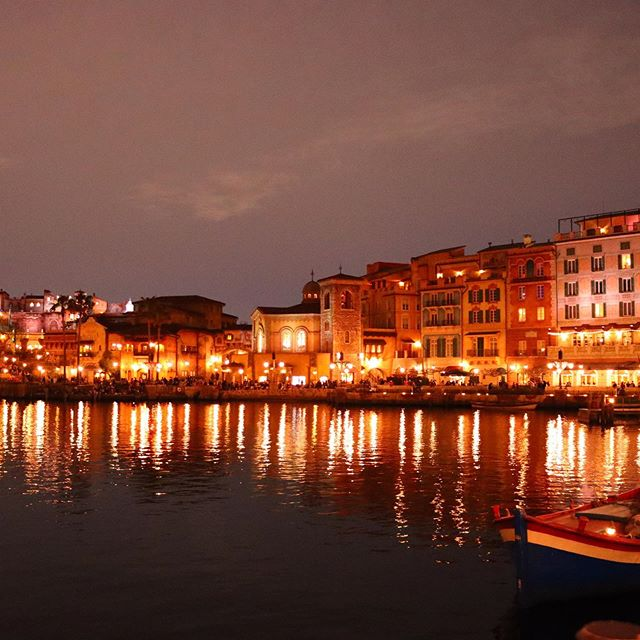boat: (503, 447, 640, 625)
building: (81, 297, 258, 378), (556, 222, 640, 385), (238, 287, 360, 376), (509, 237, 555, 384), (466, 234, 512, 381), (417, 242, 463, 389), (359, 271, 416, 385)
river: (1, 404, 600, 640)
sky: (14, 1, 640, 284)
